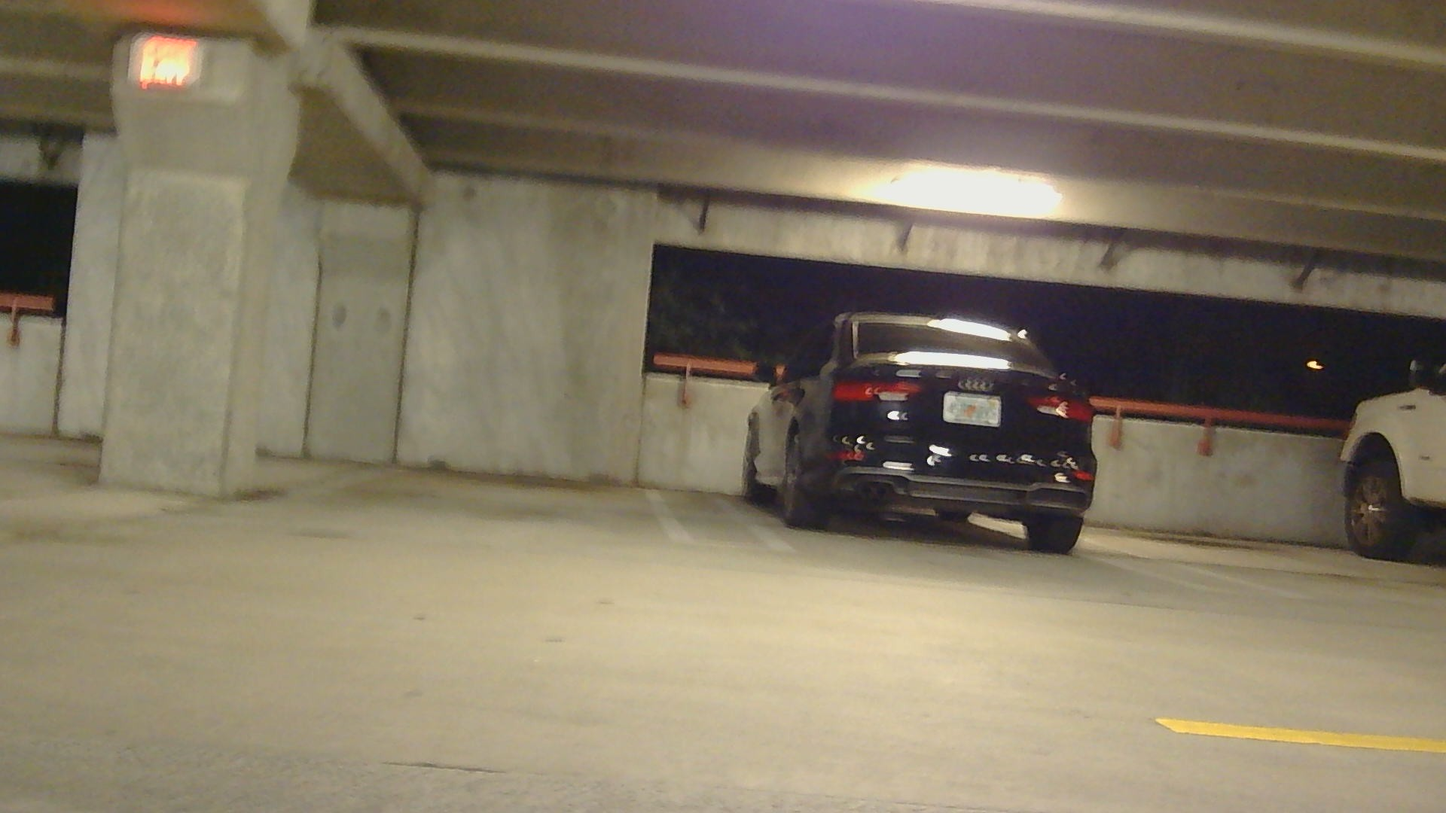empty_spot: (213, 364, 750, 555), (1074, 463, 1445, 602)
occupied_spot: (723, 292, 1113, 566), (1322, 346, 1445, 585)
